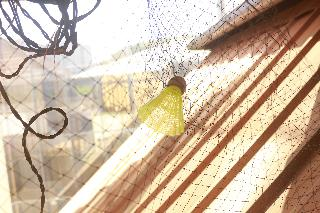shuttlecock: (137, 76, 186, 135)
